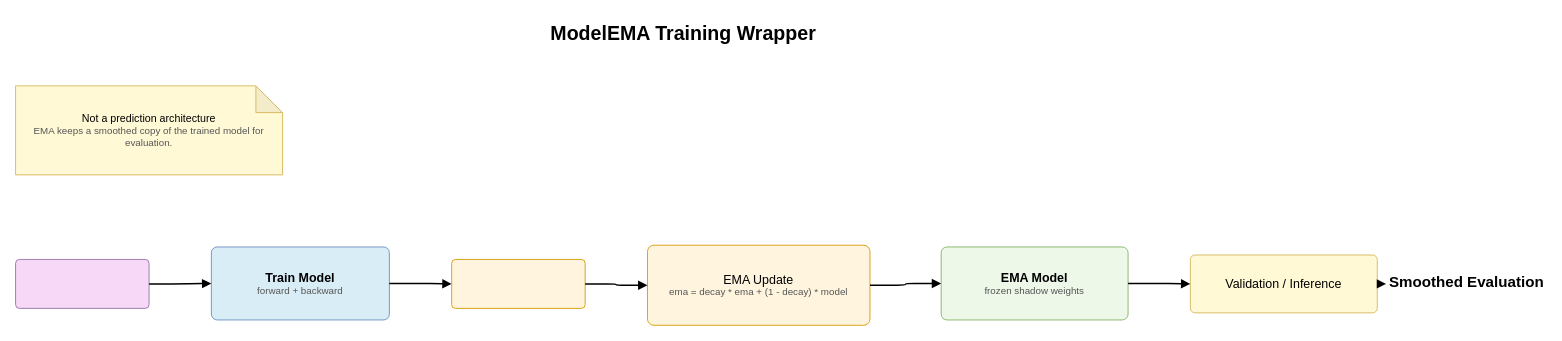
This 1562x341 diagram has some shape labels left out. The shapes that lost their labels are listed below. From the top down, each one's centre as x and y in pixels, then its label:
point (82, 283): Training Batch
point (518, 283): Optimizer Step
